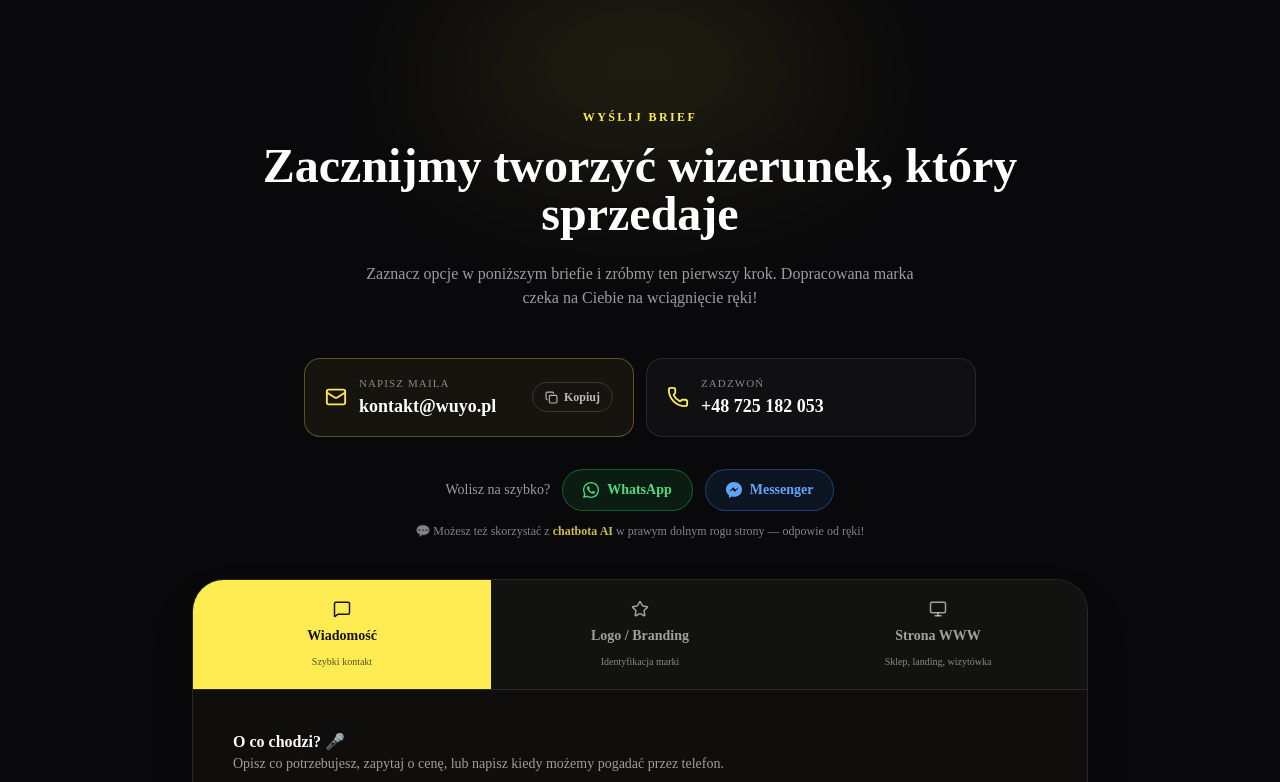
Scenario: ContactBrief › TC-6 przełączenie na zakładkę Branding pokazuje pola brandingowe
Click the tab "Logo / Branding Identyfikacja marki" at (640, 634), box x1=491 y1=580 x2=789 y2=688
(page scrolled)
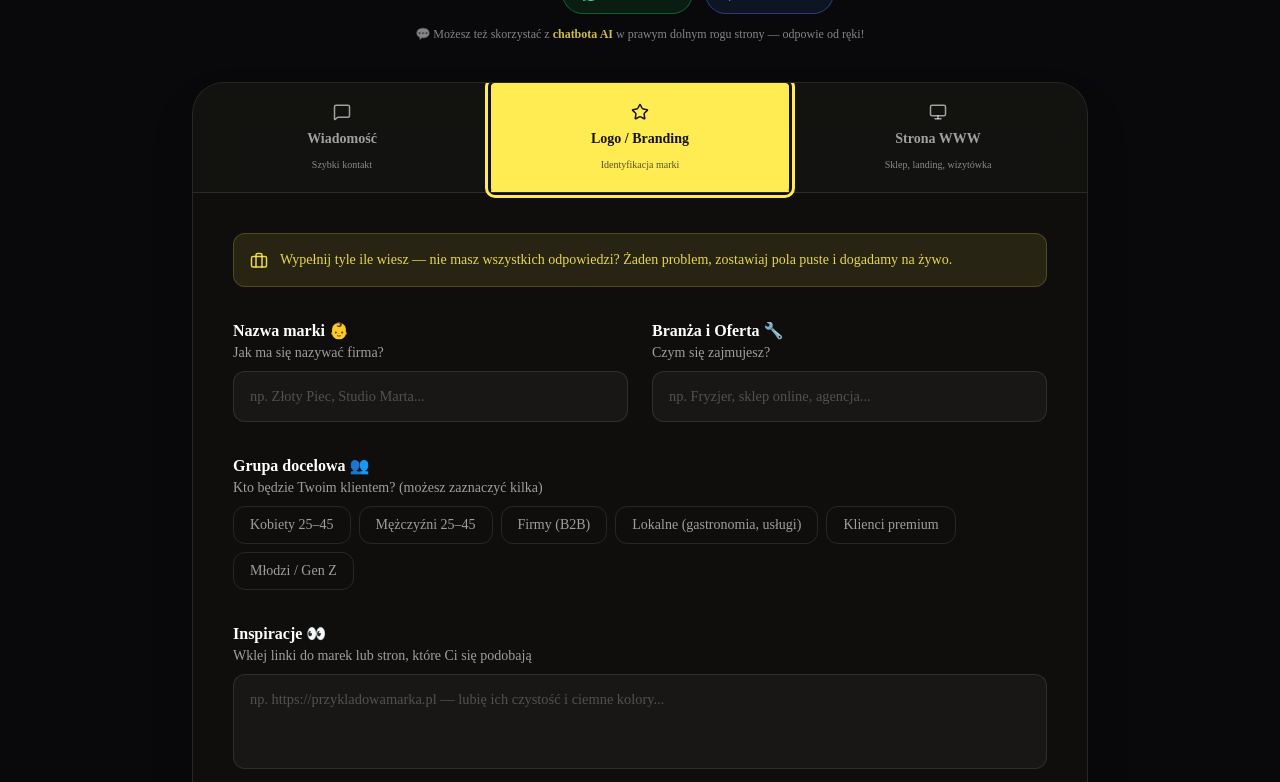
Expected: the field with placeholder "Hej Wuyo" is not shown
Expected: the field with placeholder "np. Złoty Piec, Studio Marta..." is shown, x1=233 y1=370 x2=628 y2=422
